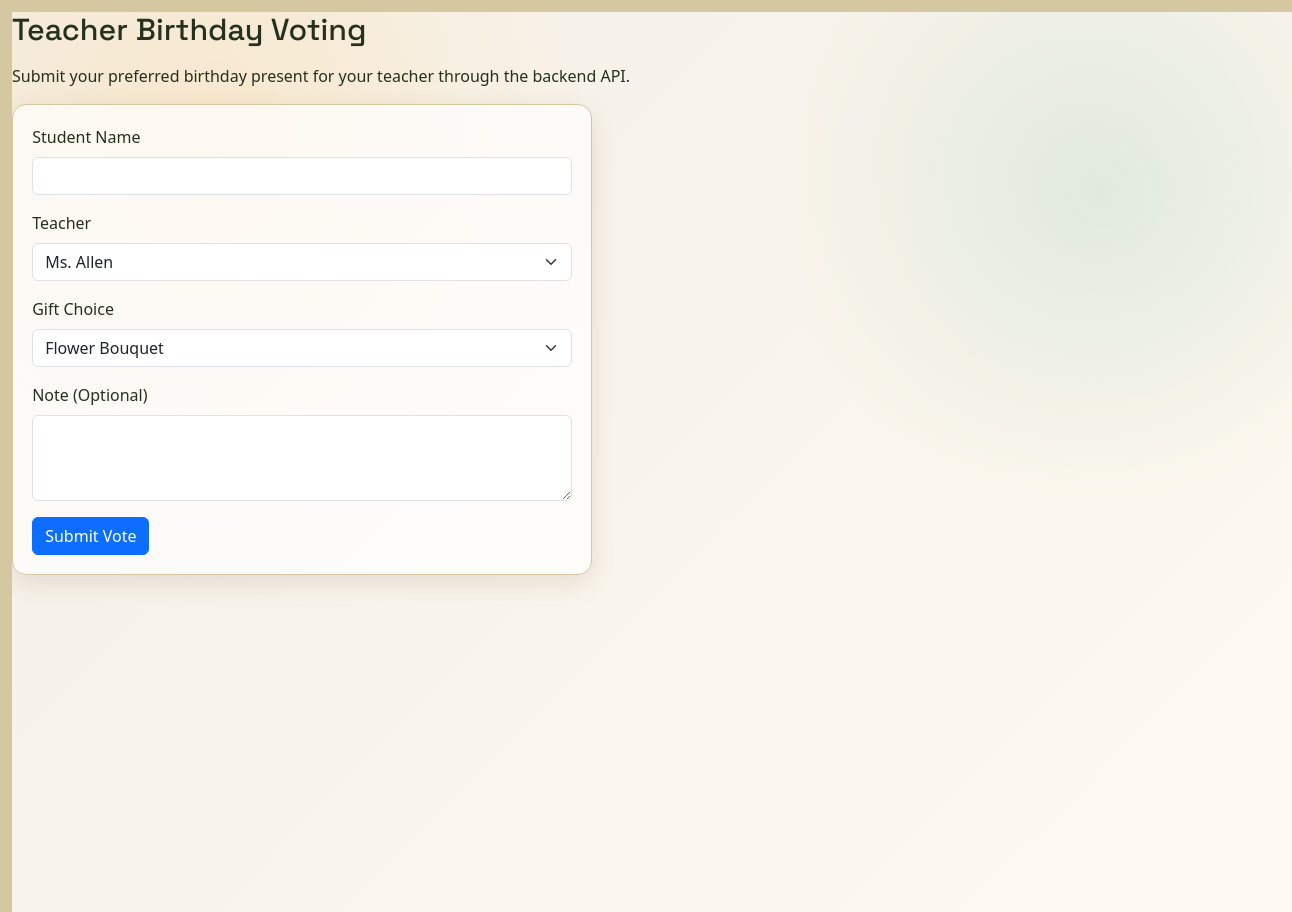
Test: frontend API callouts and button clicks › submits voting form and shows success callout
Note: type Jordan into Student Name element
In the field labelled "Student Name": (302, 176) [32,157,572,195], type "Jordan"
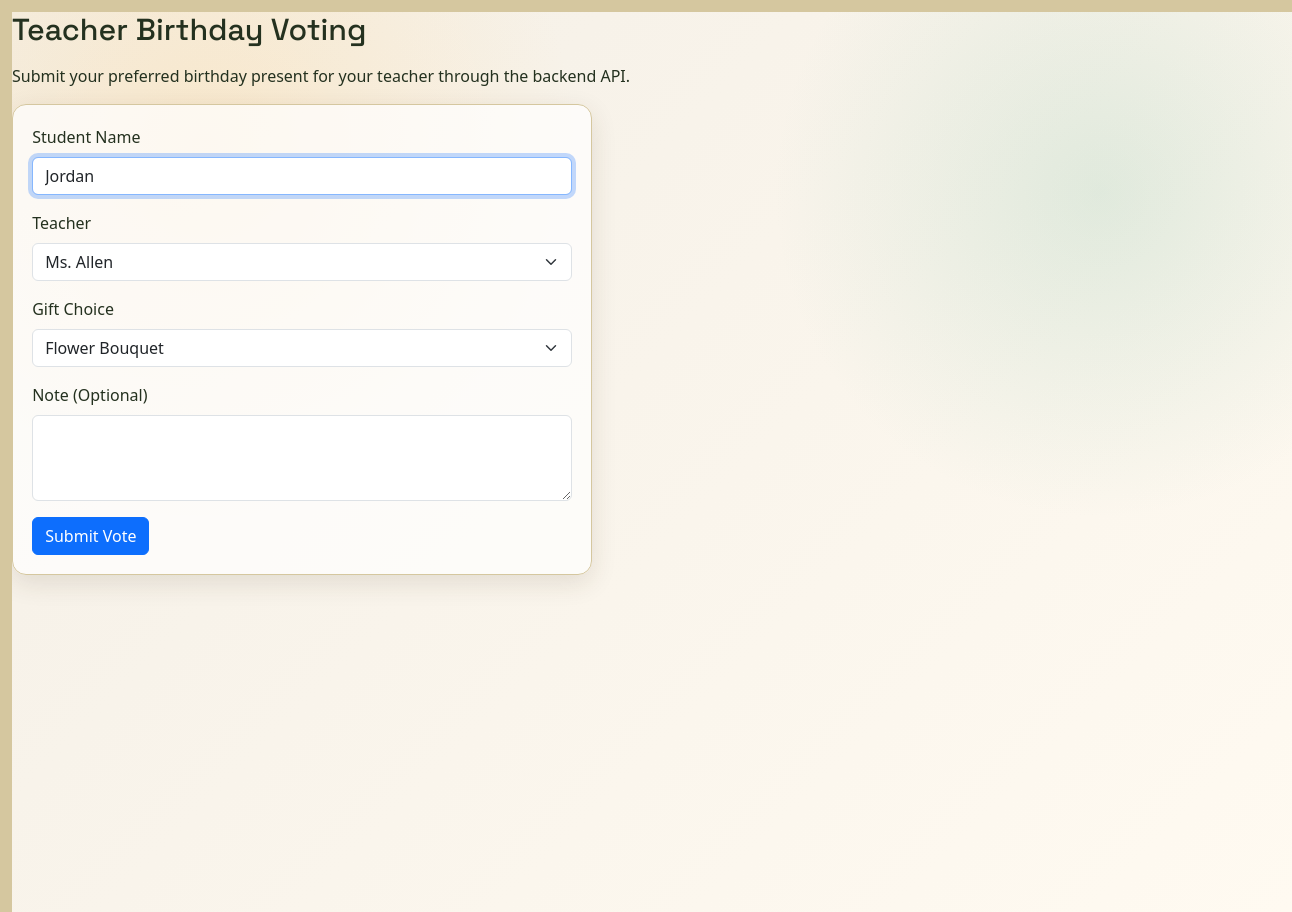
Note: type Ms. Allen into Teacher element
Select "Ms. Allen" in the dropdown labelled "Teacher": (302, 262) [32,243,572,281]
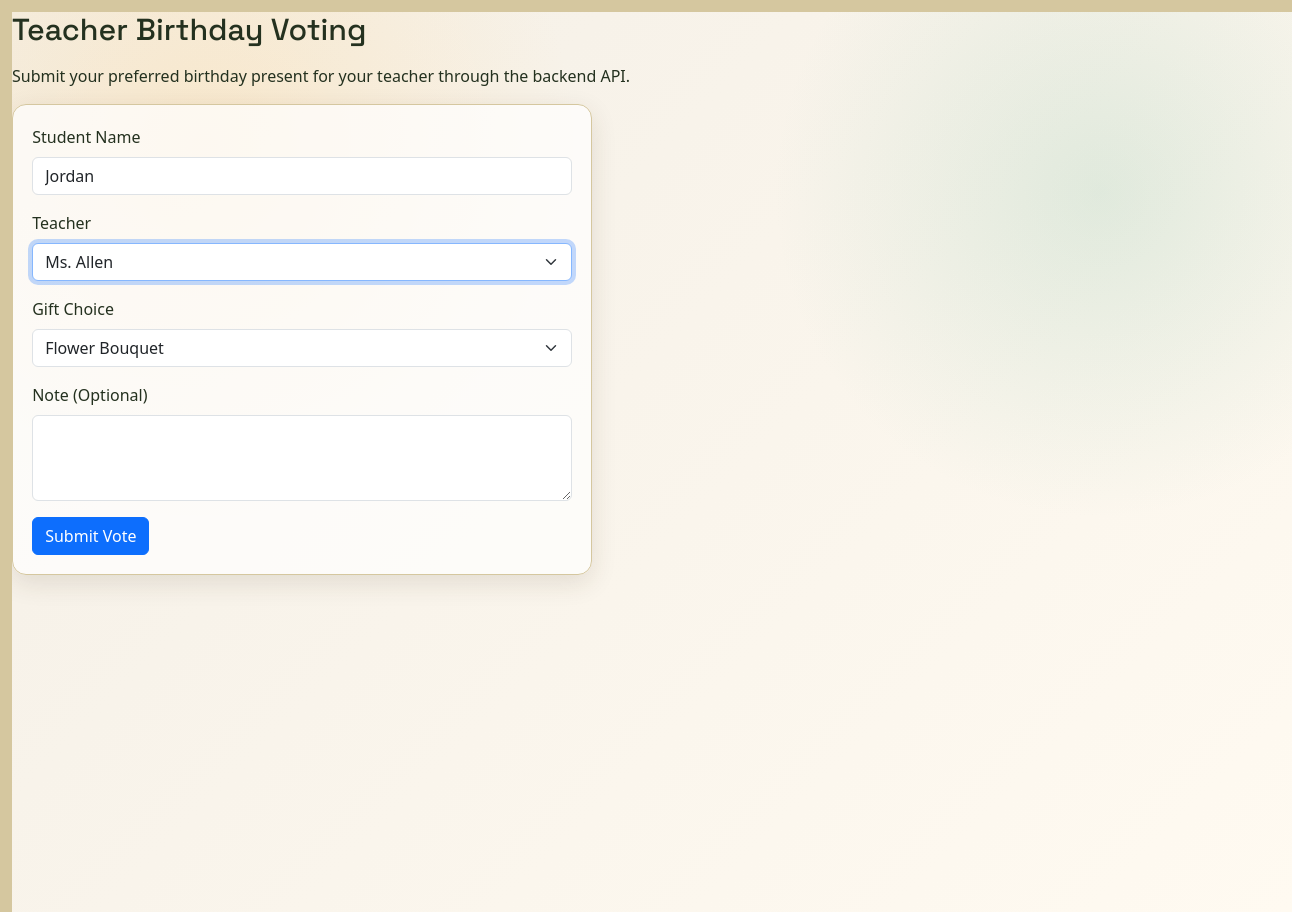
Note: type Book Collection into Gift Choice element
Select "Book Collection" in the dropdown labelled "Gift Choice": (302, 348) [32,329,572,367]
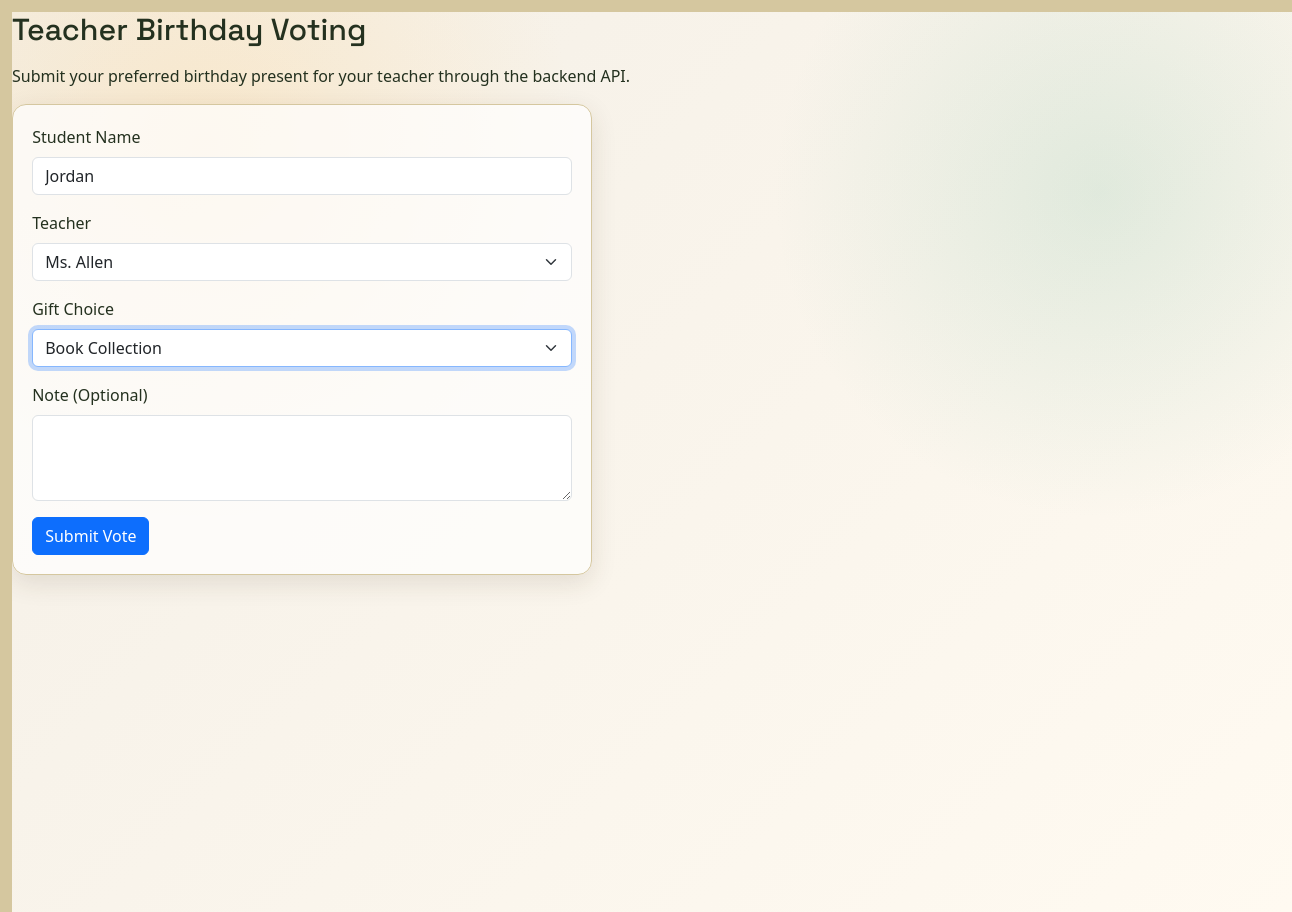
Note: type Great mentor! into Note (Optional) element
In the text box labelled "Note (Optional)": (302, 458) [32,415,572,501], type "Great mentor!"
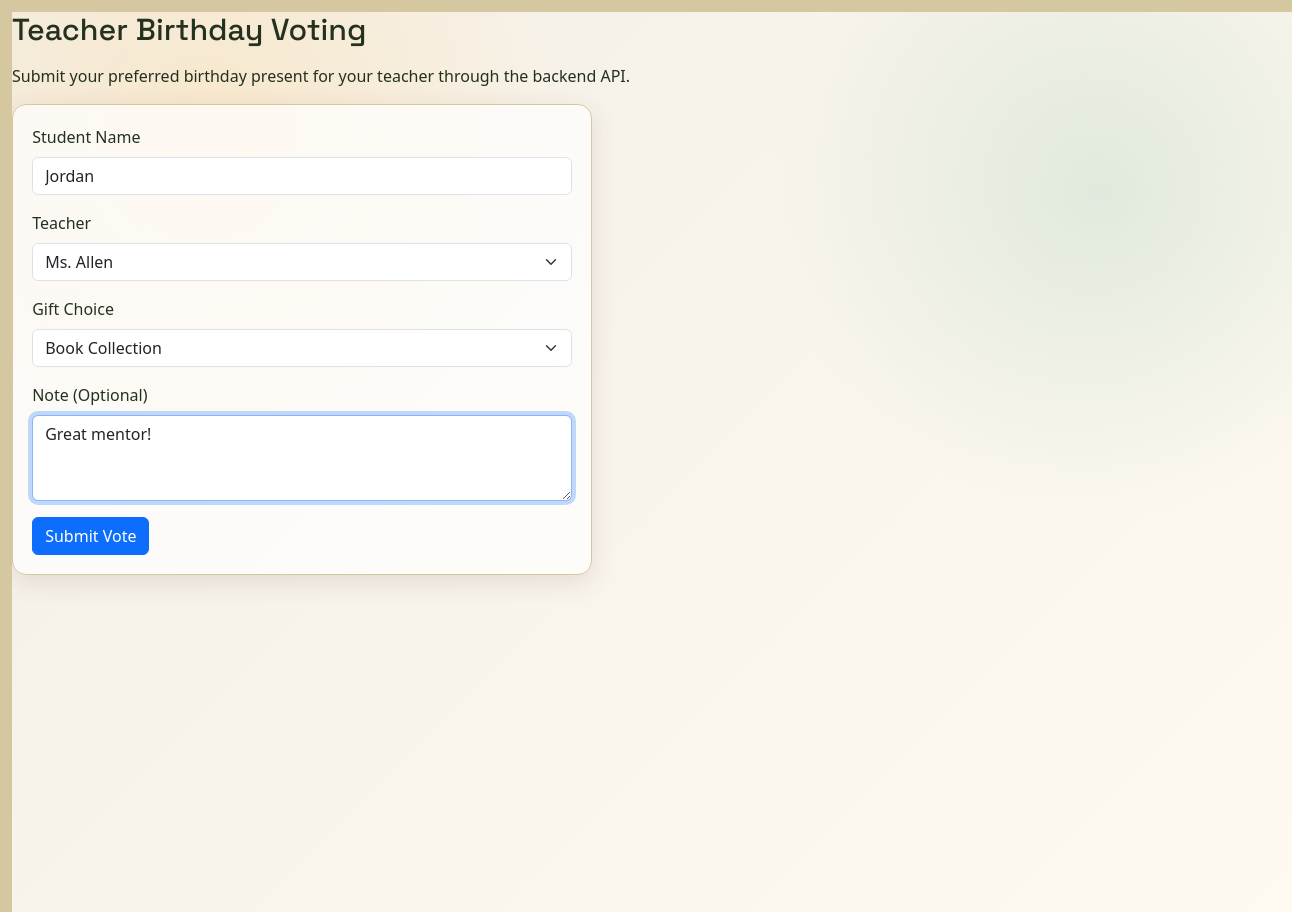
Note: click Submit Vote button
Click the button "Submit Vote": (91, 536) [32,517,150,555]
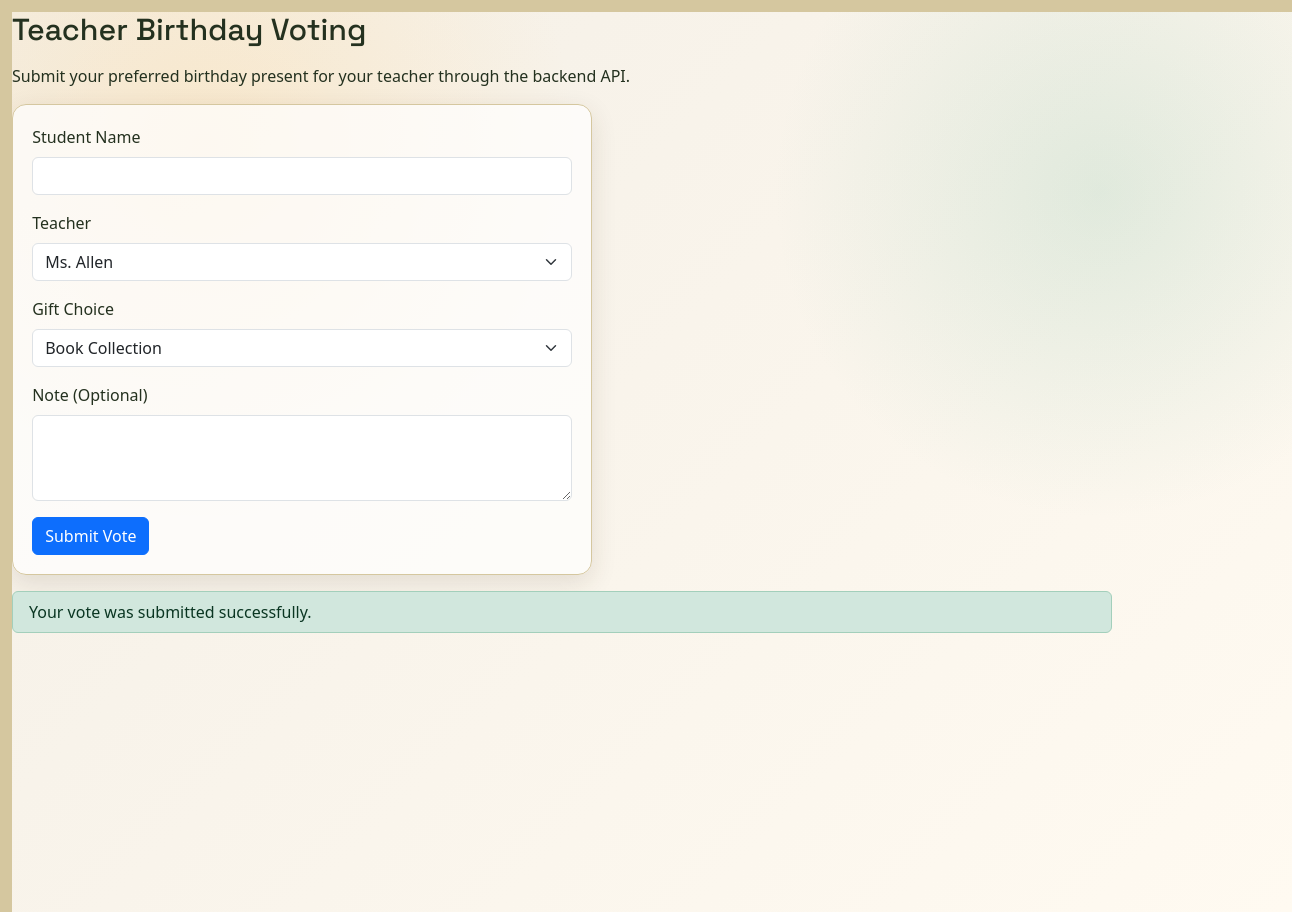
Expected: the text "Your vote was submitted successfully." is shown, [12,591,1112,633]
